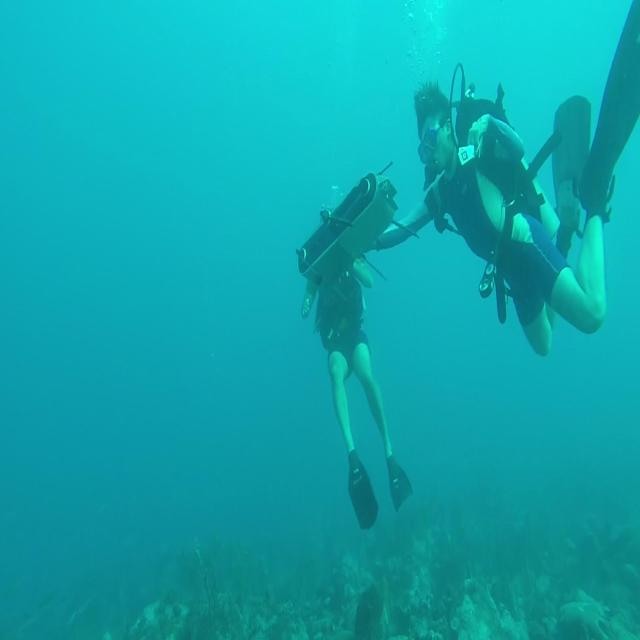human: (374, 72, 615, 358), (296, 168, 414, 530)
